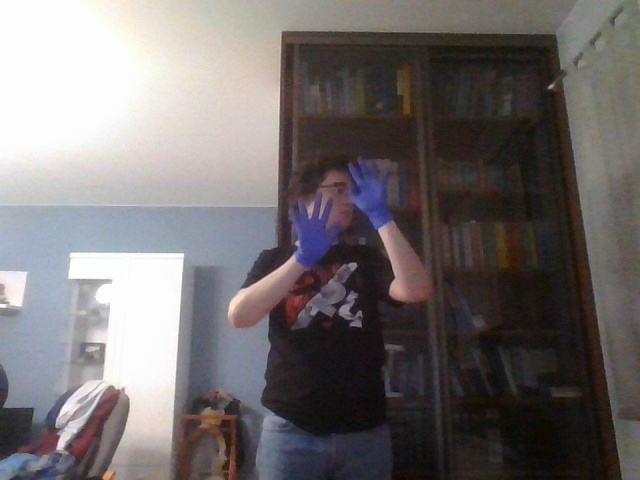glove: (341, 155, 395, 231), (289, 191, 341, 269)
